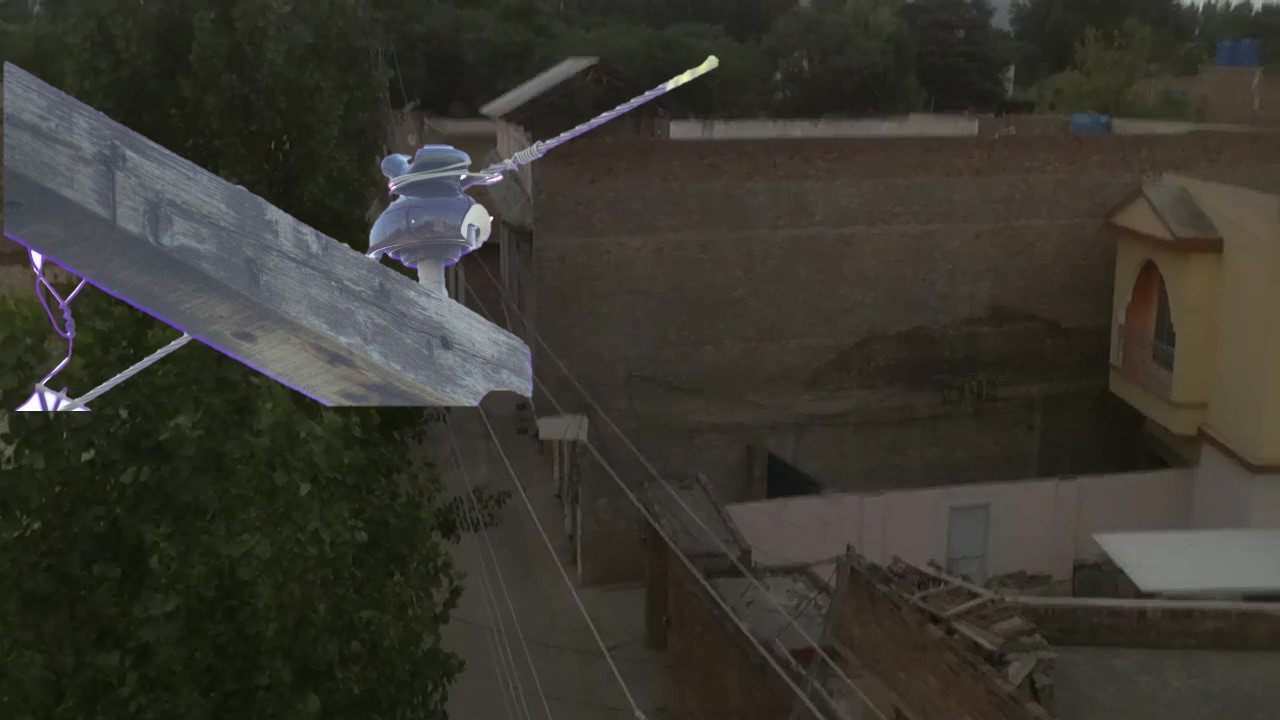defect_pin: (361, 134, 505, 275)
